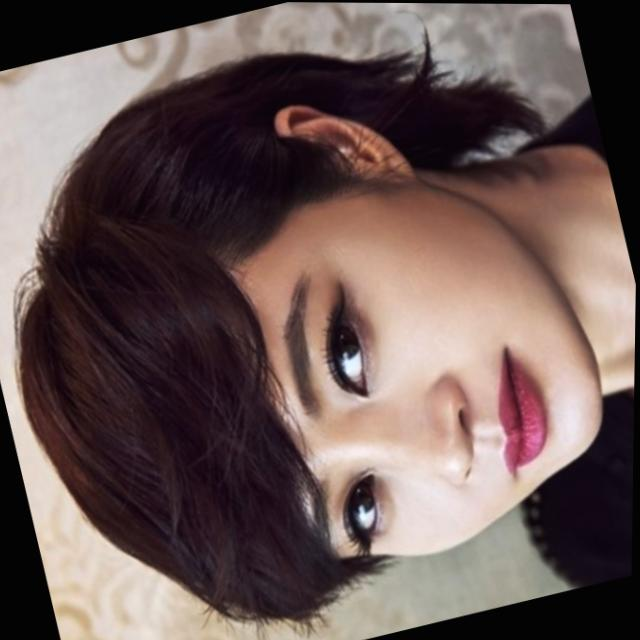face: (195, 144, 638, 595)
